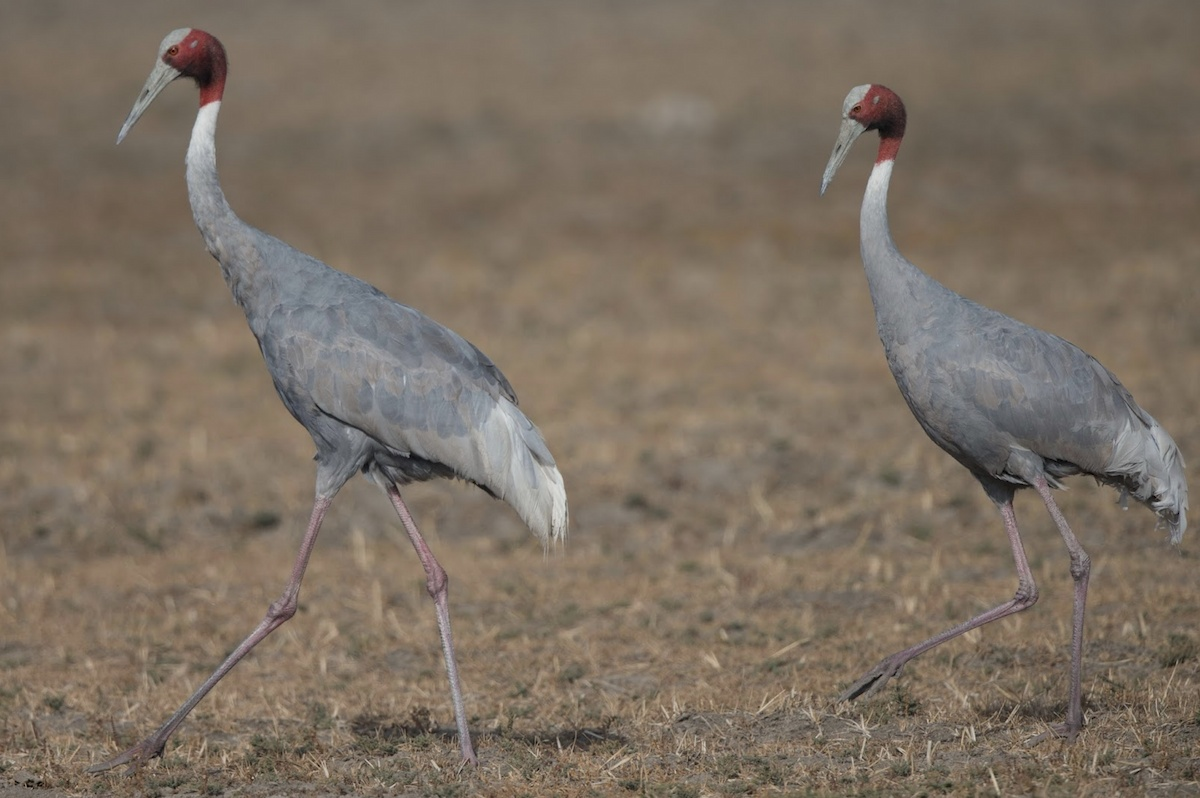crane: (112, 18, 590, 755), (815, 82, 1173, 708)
